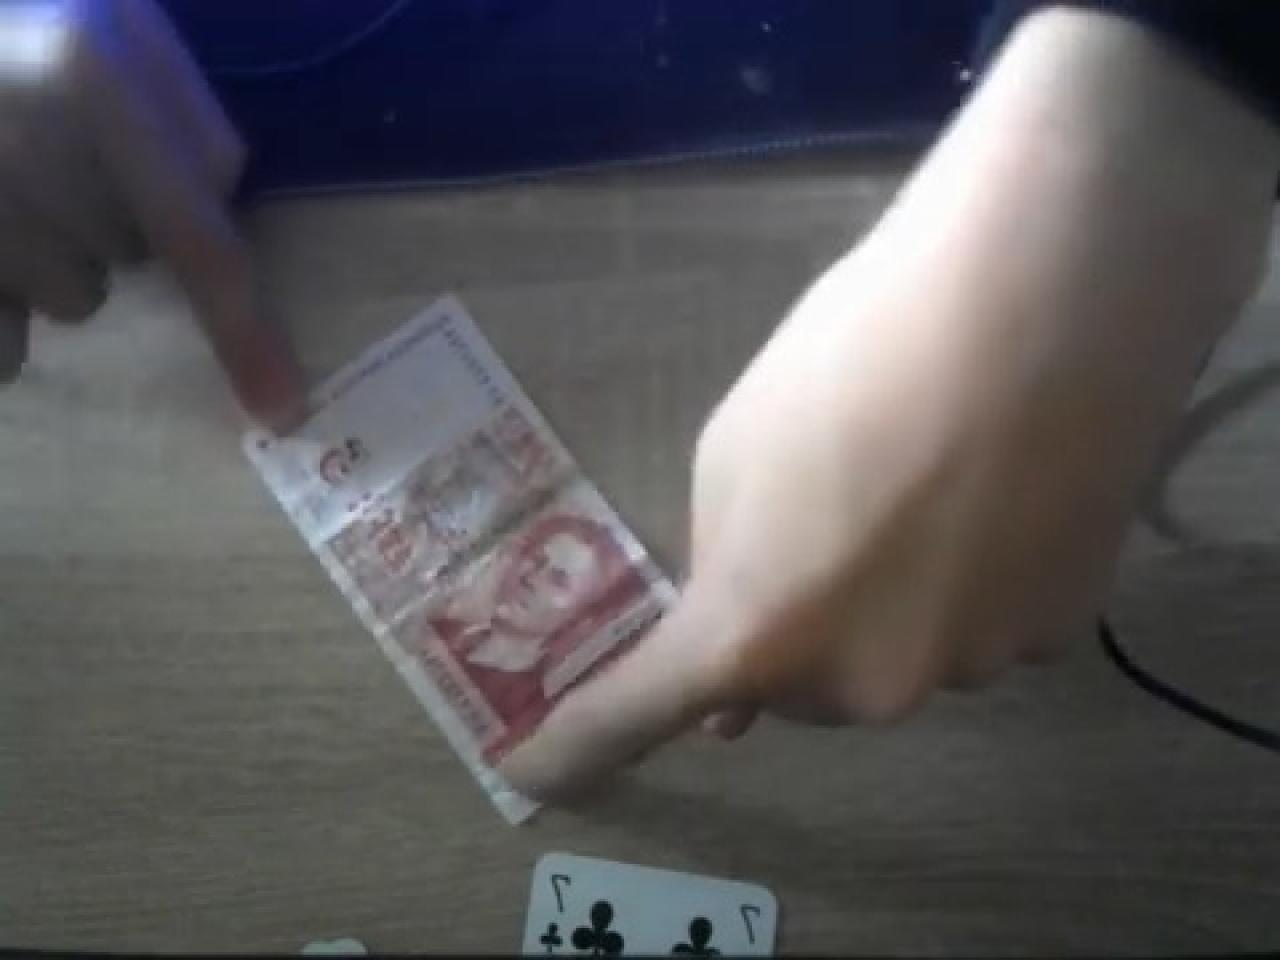5leva: (240, 299, 683, 829)
